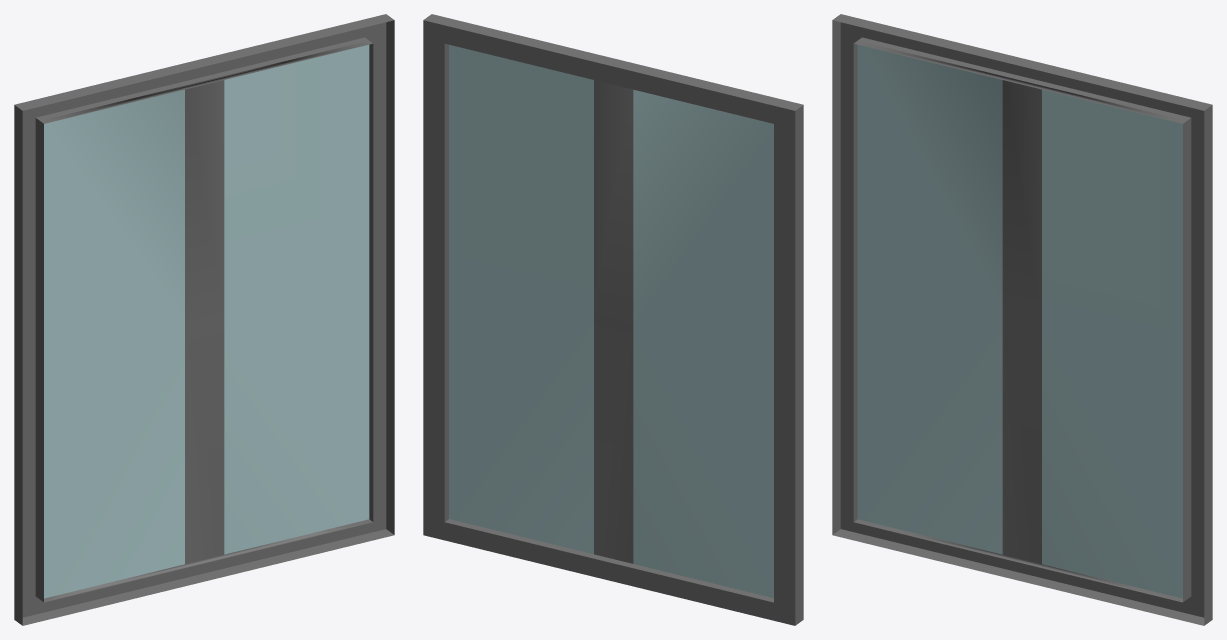
File: New_Flat_window_1.fbx
The picture shows the model from 3 angles, left to right: view 1: azimuth 30°, elevation 25°; view 2: azimuth 150°, elevation 25°; view 3: azimuth 330°, elevation 25°; orthographic projection.
Visible parts, largest first — view 1: New_Flat_window_1; view 2: New_Flat_window_1; view 3: New_Flat_window_1.
Part boxes in pixels (<box>): New_Flat_window_1: <box>14,14,394,625</box>; New_Flat_window_1: <box>423,14,803,625</box>; New_Flat_window_1: <box>832,14,1212,625</box>.
Bounding box in the file's own units: 2.39 × 0.0941 × 3.16.
